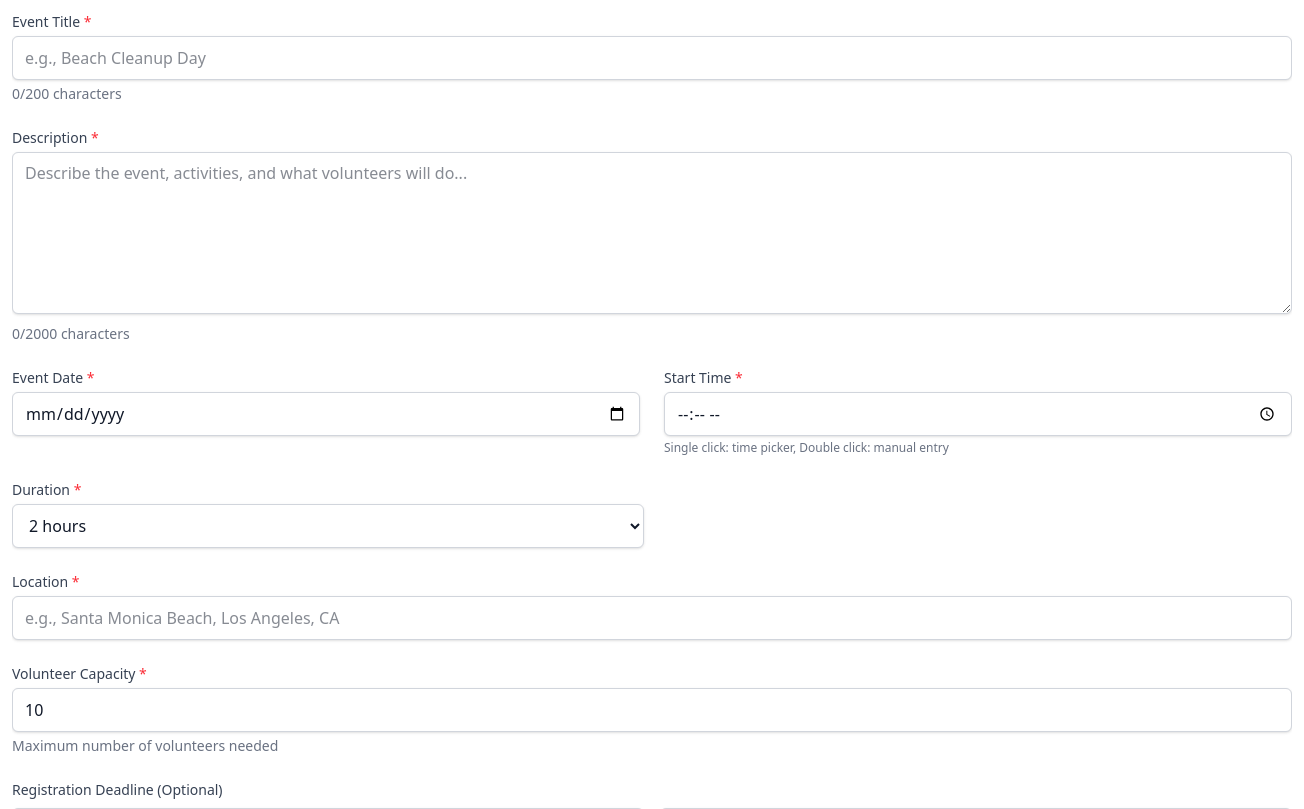
it: EventForm › displays character count for title and description
The image size is (1304, 809).
Expected: the text "0/200 characters" is shown, [12, 84, 122, 103]
Expected: the text "0/2000 characters" is shown, [12, 324, 130, 343]
Type "Test Event" into the field labelled "Event Title *" at [652, 58], box [12, 36, 1292, 80]
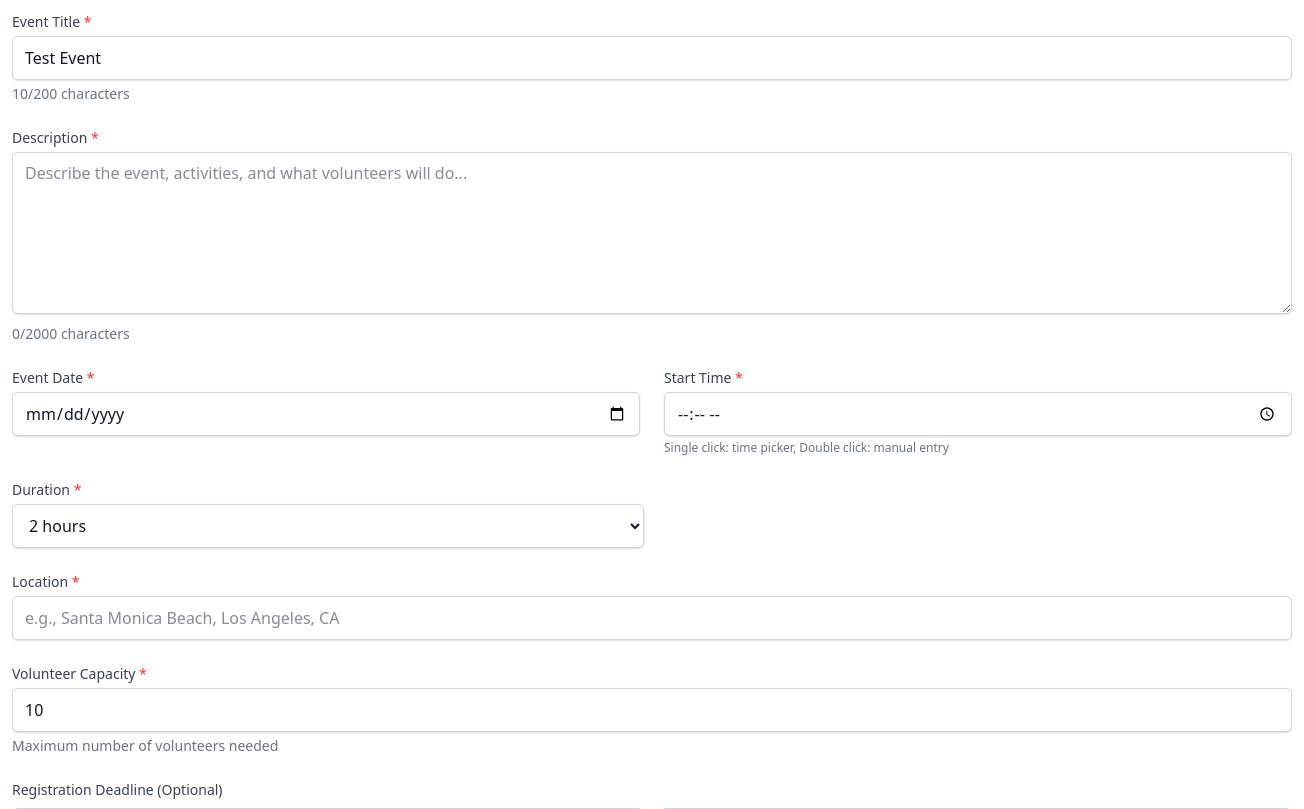
Result: the text "10/200 characters" is shown at [12, 84, 130, 103]
